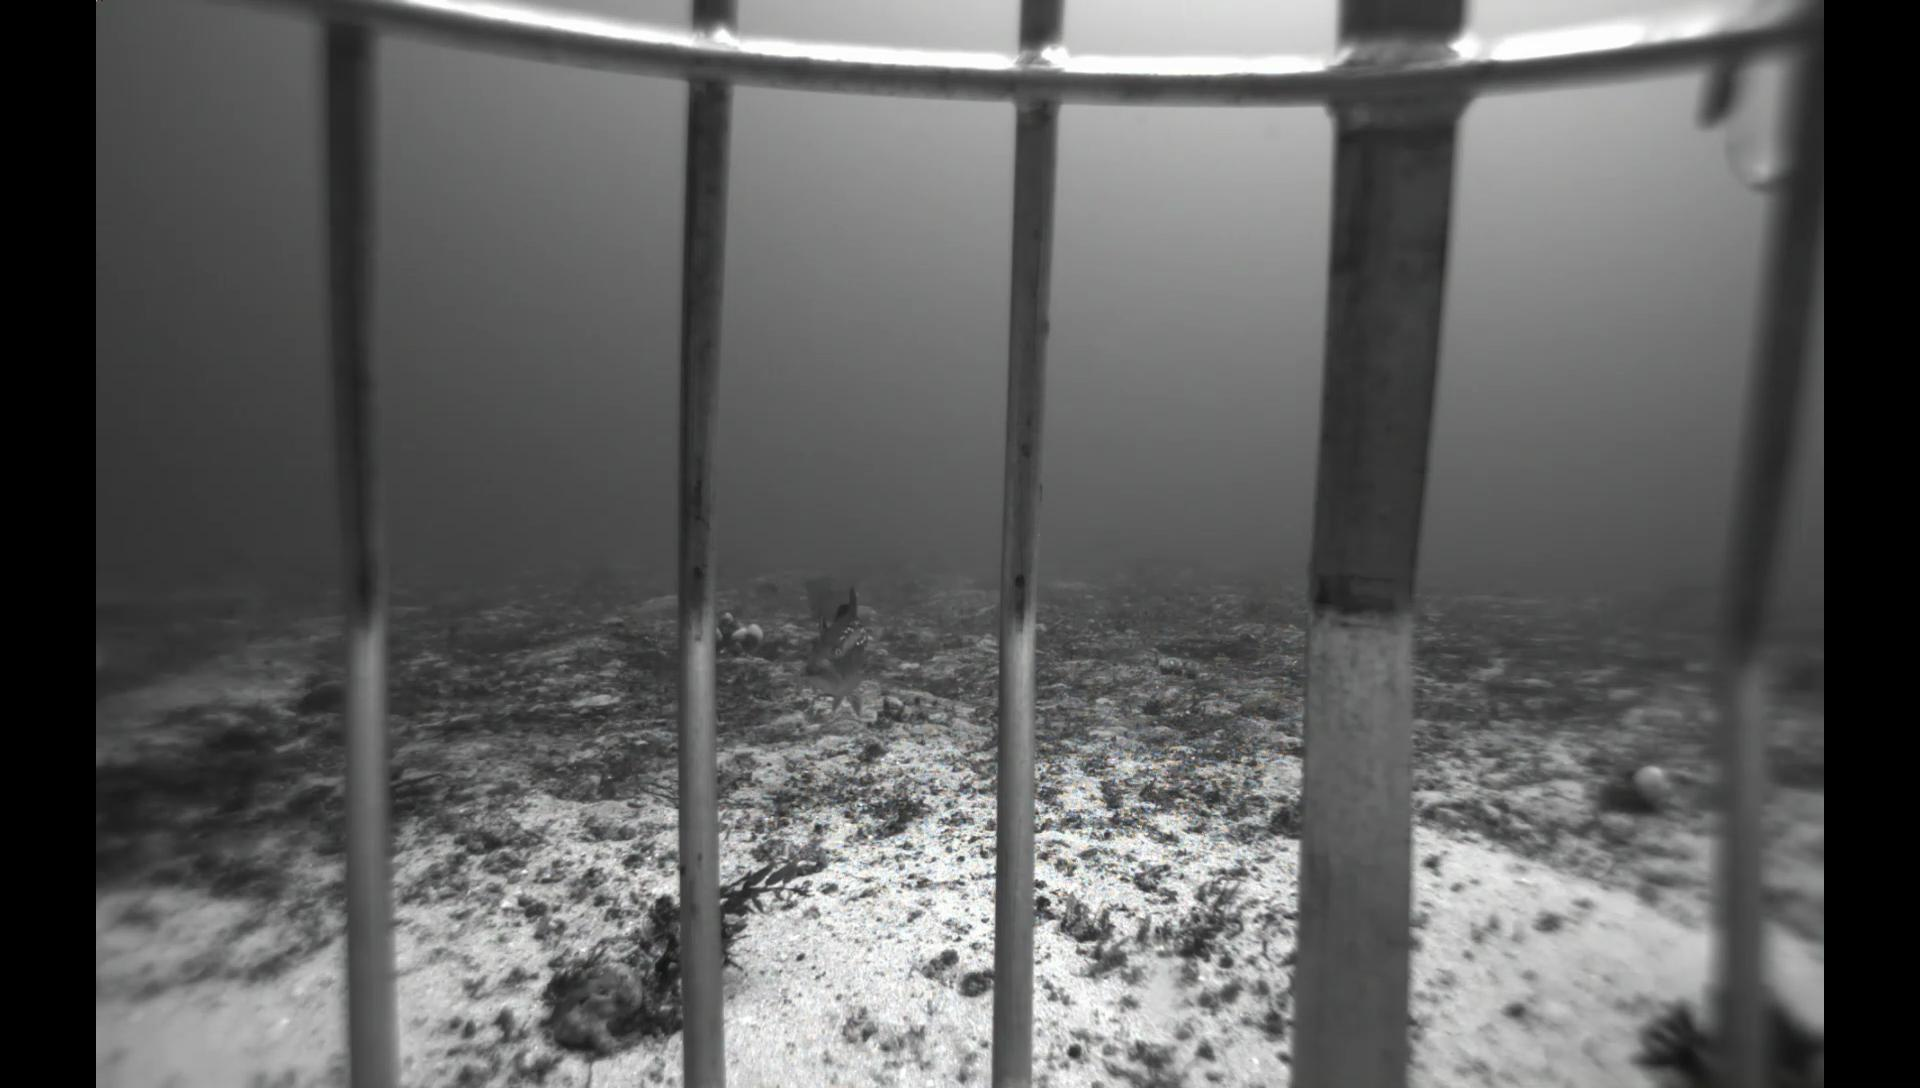CHAETODONOCELLATUS-170260307: (1170, 563, 1200, 586), (1110, 568, 1129, 584)
EPINEPHELUSMORIO-170021211: (794, 582, 878, 725)
PRISTIGENYSALTA-170050401: (291, 675, 345, 717)
